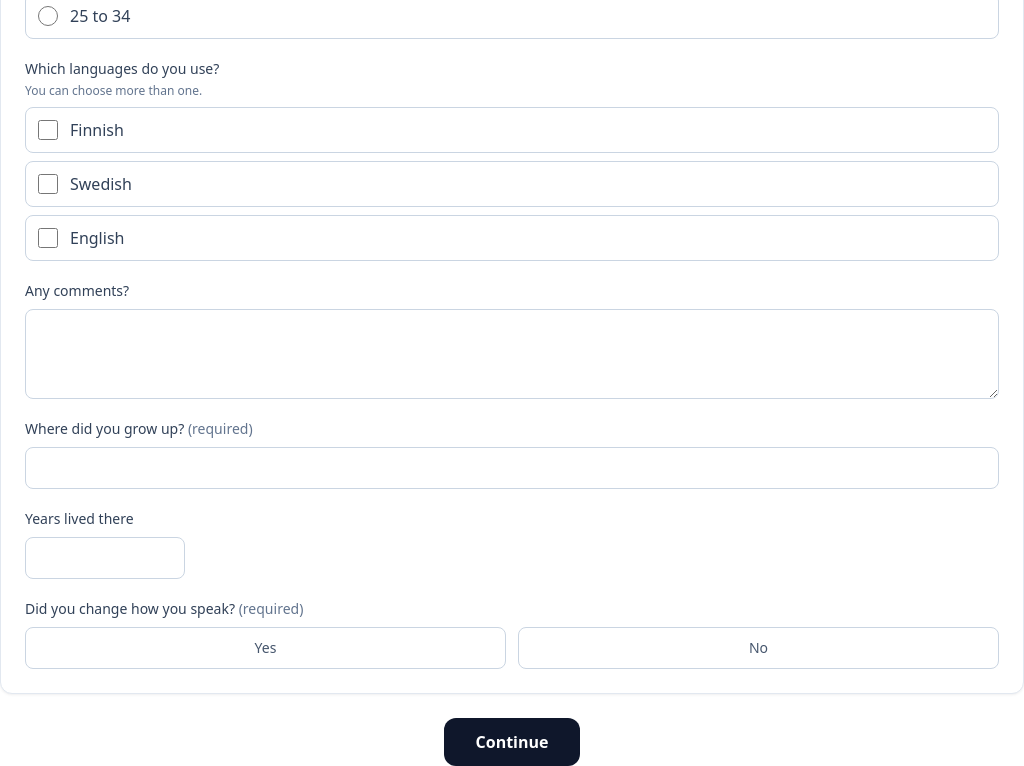
Scenario: QuestionnaireForm › sends nothing in read-only (preview) mode but still validates
(page scrolled)
Click the button "Continue": (512, 742) [444, 718, 580, 765]
(page scrolled)
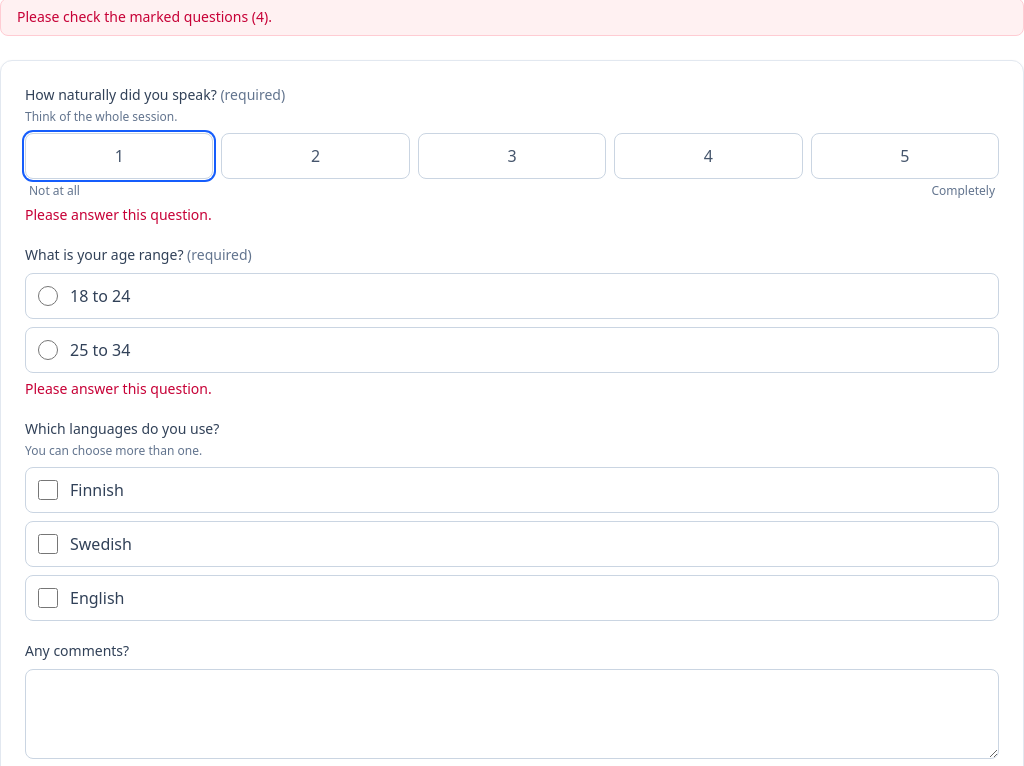
Expected: the message reads "Please check the marked questions (4).", [17, 7, 272, 26]
Click the radio button labelled "4": (708, 156) [614, 133, 803, 179]
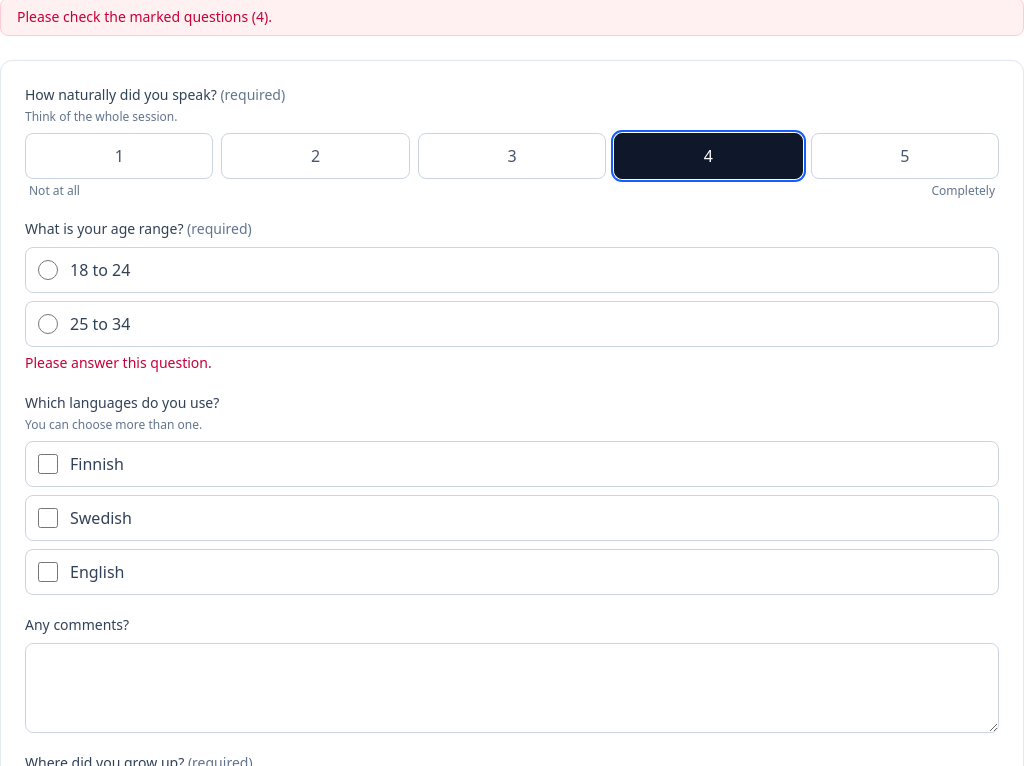
Click the radio button labelled "25 to 34": (48, 324) [38, 314, 58, 334]
(page scrolled)
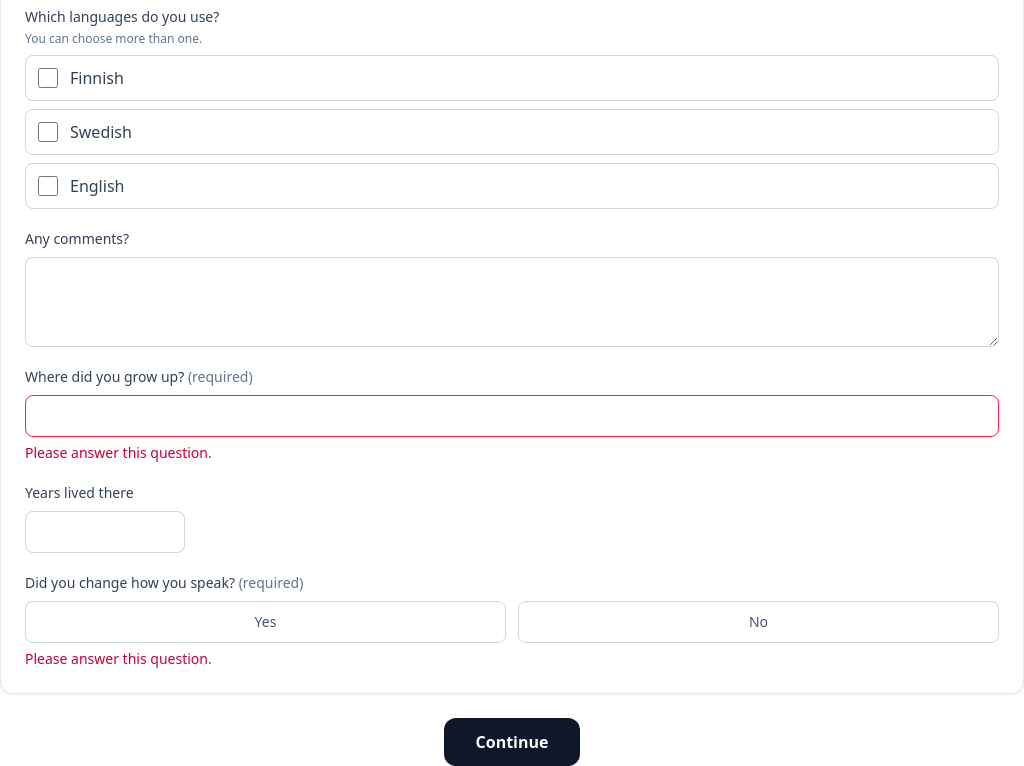
In the field labelled "Where did you grow up? (required)": (512, 416) [25, 395, 999, 437], type "Oulu"
(page scrolled)
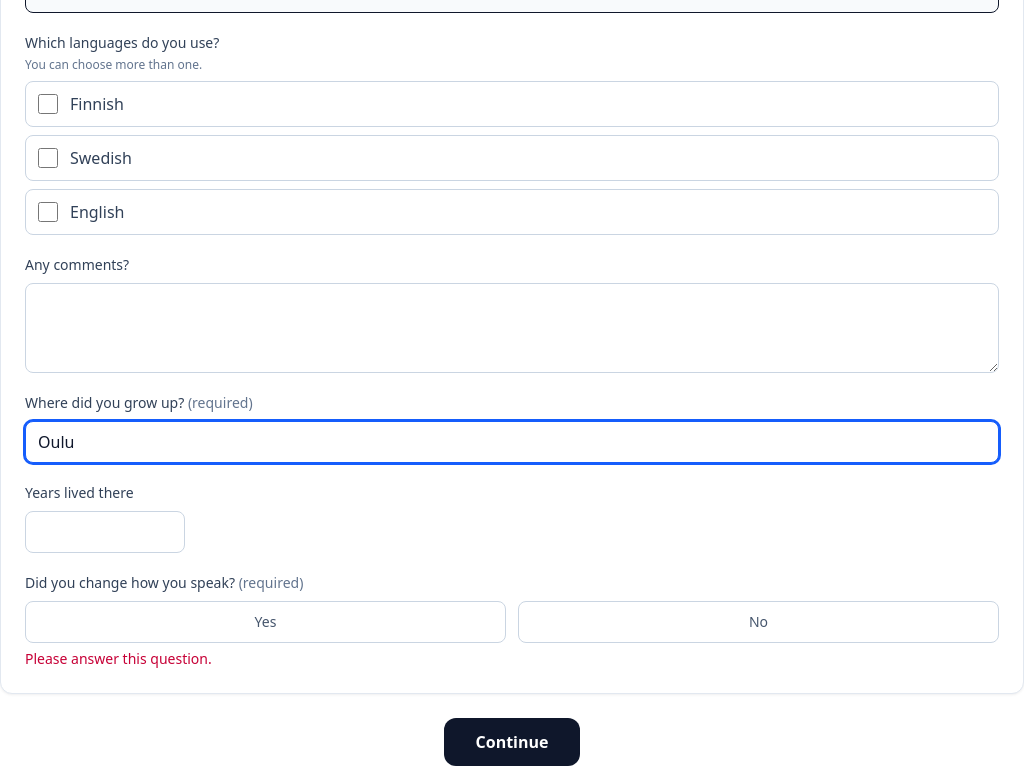
Click the radio button labelled "No": (758, 622) [518, 601, 999, 643]
(page scrolled)
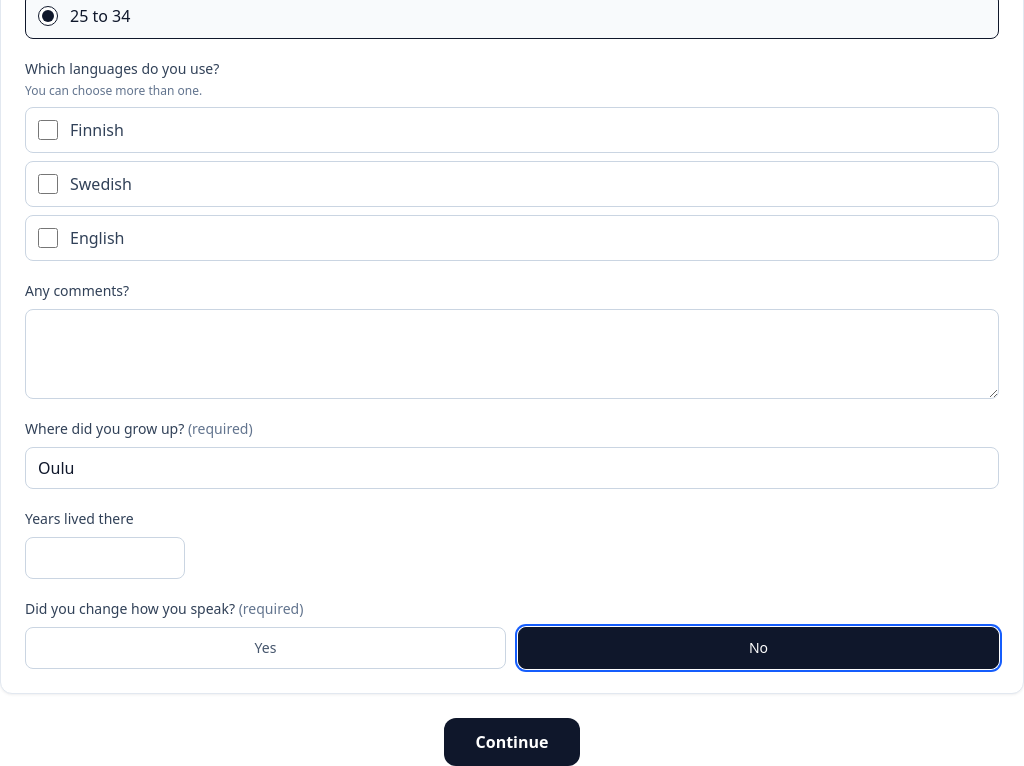
Click the button "Continue": (512, 742) [444, 718, 580, 765]
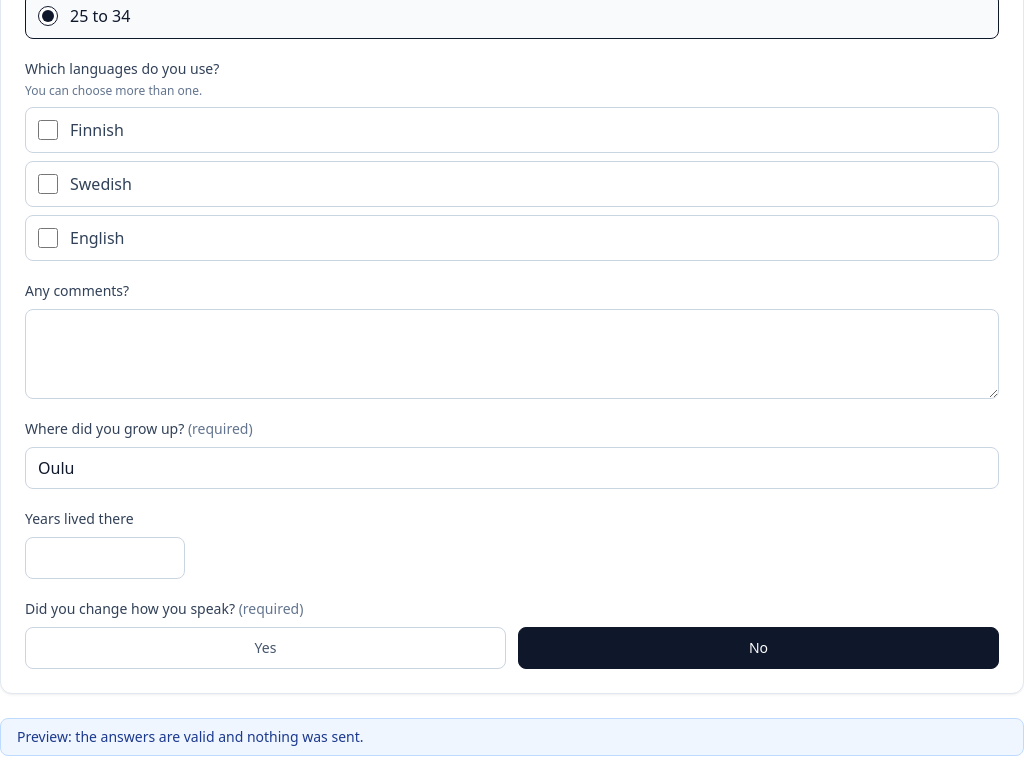
Expected: the message reads "Preview: the answers are valid and nothing was sent.", [17, 727, 364, 746]
